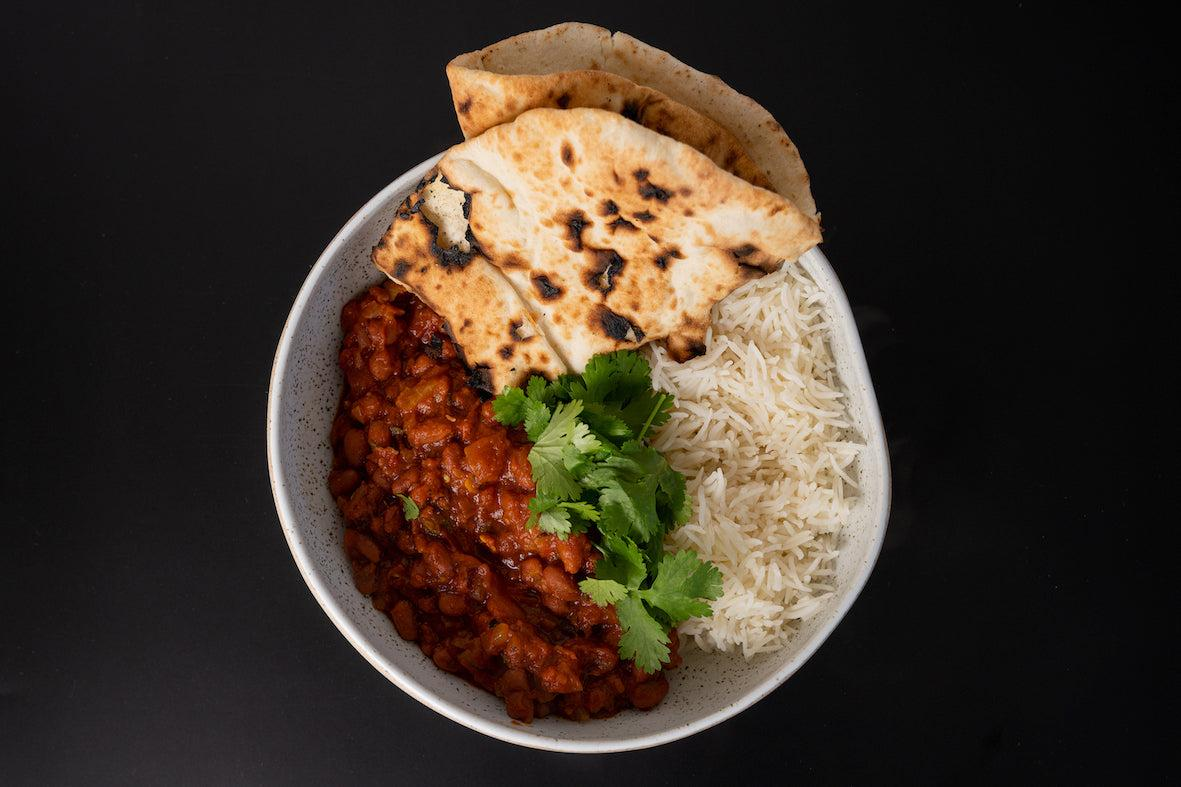rajma: (349, 279, 596, 705)
rice: (654, 277, 857, 635), (677, 303, 855, 646)
roti phulka: (375, 57, 794, 340)
